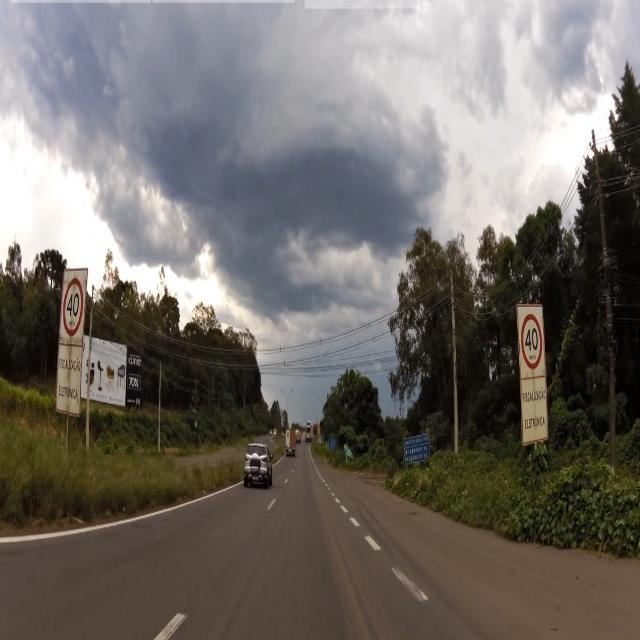R-19: (522, 313, 541, 370), (64, 276, 82, 334)
